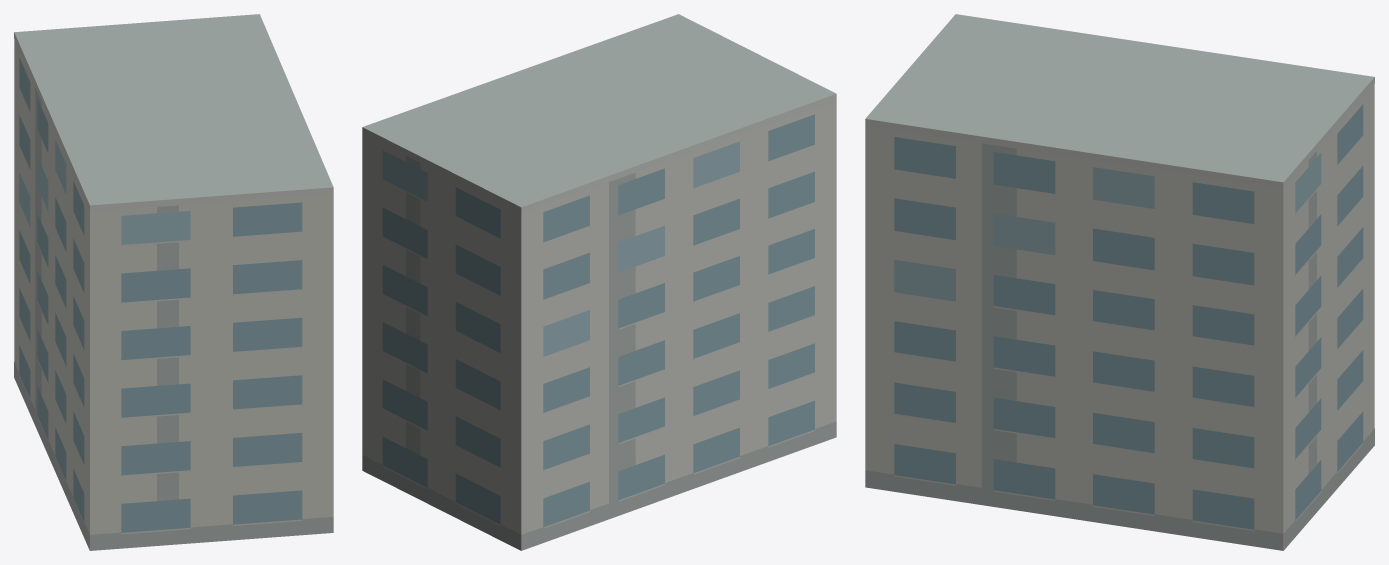
File: survey-upis-32889282.glb
3 views of the same model, side by side, from view 1: azimuth 30°, elevation 25°; view 2: azimuth 150°, elevation 25°; view 3: azimuth 270°, elevation 25° (orthographic). The views are drawn at different scales.
Parts seen in each view (by area): view 1: survey-upis-32889282.tmp; view 2: survey-upis-32889282.tmp; view 3: survey-upis-32889282.tmp.
Boxes of the visible parts, x1=… form: survey-upis-32889282.tmp: x1=14, y1=14, x2=333, y2=550; survey-upis-32889282.tmp: x1=362, y1=14, x2=836, y2=550; survey-upis-32889282.tmp: x1=865, y1=14, x2=1374, y2=550.
Size of the model in its own units: 12.85 by 13.1 by 16.43.
